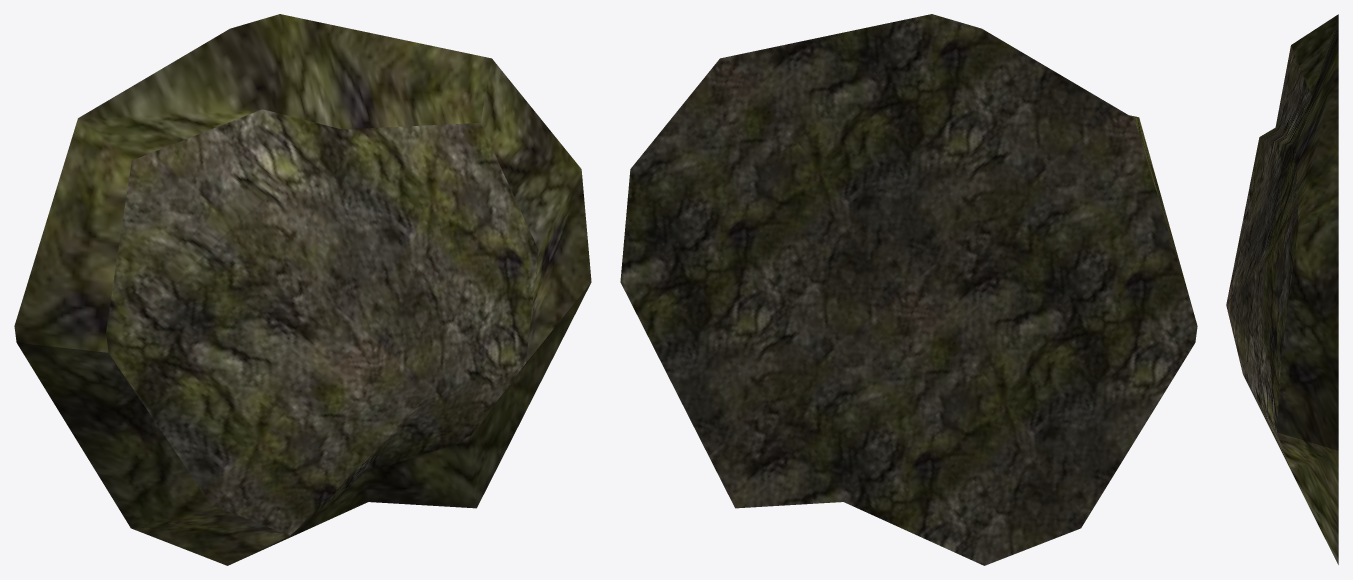
The picture shows the model from 3 angles, left to right: view 1: azimuth 30°, elevation 25°; view 2: azimuth 150°, elevation 25°; view 3: azimuth 270°, elevation 25°; orthographic projection. The views are drawn at different scales.
Parts seen in each view (by area): view 1: model_Object22; view 2: model_Object22; view 3: model_Object22.
Boxes of the visible parts, left/top/right/bottom form: model_Object22: left=14, top=14, right=591, bottom=565; model_Object22: left=620, top=14, right=1197, bottom=565; model_Object22: left=1226, top=14, right=1338, bottom=564.
Size of the model in its own units: 2.86 by 2.57 by 0.5967.
Materials: 1 (1 with a texture image).
